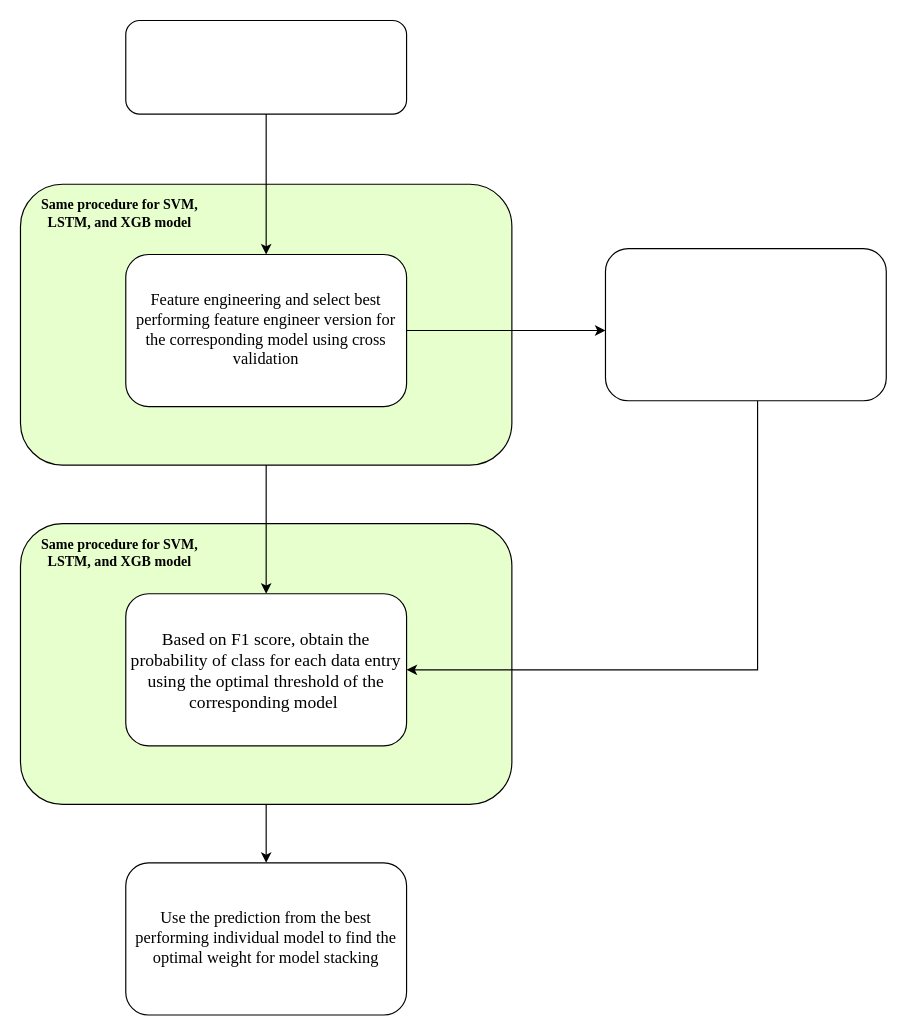
Some shapes in this 907 by 1035 pixel diagram are drawn without their labels. Each missing label, with the box of its shape:
Preliminary Data Cleaning: (125, 19, 407, 114)
XGB model hyperparameter tuning: (604, 247, 886, 401)
